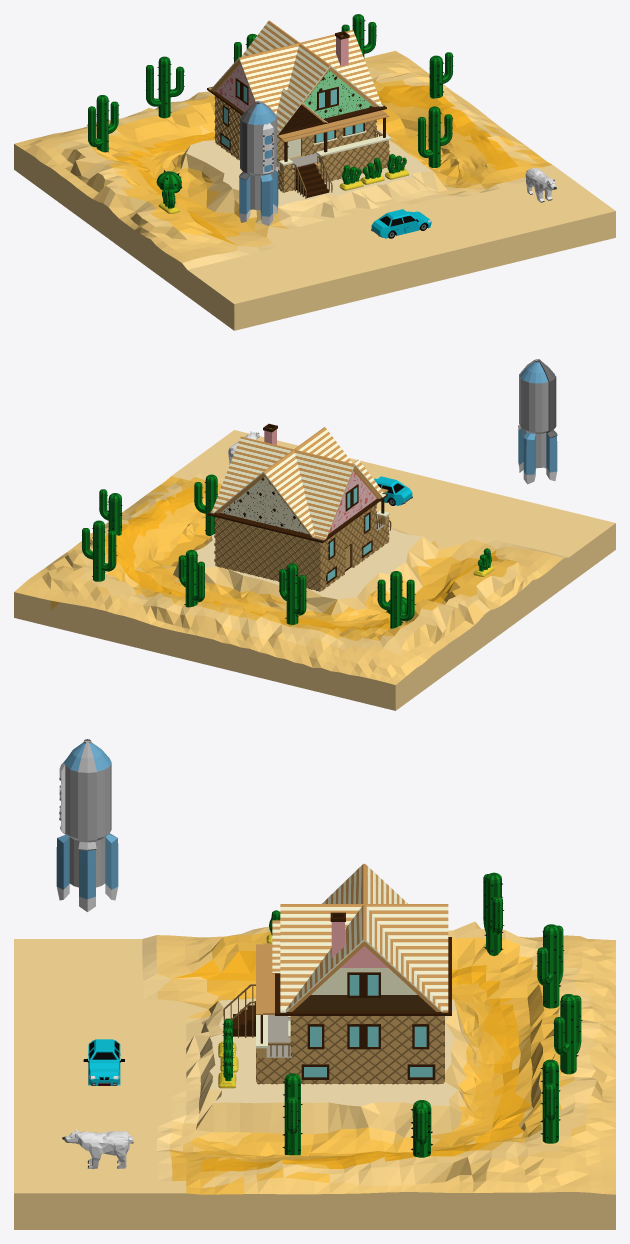
3 views of the same model, one above another, from view 1: azimuth 30°, elevation 25°; view 2: azimuth 150°, elevation 25°; view 3: azimuth 270°, elevation 25° (orthographic). The views are drawn at different scales.
Visible parts, largest first — view 1: Cube.001, Cube.1102, OBJRANDOM_ROCKETSHIP, Cylinder.044, Cylinder.037, Cylinder.045, VEHICLES_CAR, Cylinder.038, Cylinder.042, ANIMAL_OSO_POLAR, Cylinder.041, Cylinder.039 (+1 smaller); view 2: Cube.001, Cube.1102, OBJRANDOM_ROCKETSHIP, Cylinder.045, Cylinder.042, Cylinder.044, Cylinder.043, Cylinder.037, Cylinder.038, VEHICLES_CAR; view 3: Cube.001, Cube.1102, OBJRANDOM_ROCKETSHIP, Cylinder.044, Cylinder.043, ANIMAL_OSO_POLAR, VEHICLES_CAR, Cylinder.045, Cylinder.042, Cylinder.037, Cylinder.038.
Part boxes in pixels (bbox=[...]): Cube.001: bbox=[14, 50, 615, 330]; Cube.1102: bbox=[207, 20, 391, 198]; OBJRANDOM_ROCKETSHIP: bbox=[239, 100, 278, 225]; Cylinder.044: bbox=[146, 56, 184, 118]; Cylinder.037: bbox=[417, 106, 452, 167]; Cylinder.045: bbox=[87, 95, 119, 152]; VEHICLES_CAR: bbox=[371, 209, 431, 238]; Cylinder.038: bbox=[429, 52, 453, 98]; Cylinder.042: bbox=[341, 14, 376, 58]; ANIMAL_OSO_POLAR: bbox=[525, 167, 556, 202]; Cylinder.041: bbox=[385, 154, 409, 179]; Cylinder.039: bbox=[339, 165, 363, 190]; Cube.001: bbox=[14, 430, 615, 710]; Cube.1102: bbox=[207, 423, 391, 591]; OBJRANDOM_ROCKETSHIP: bbox=[518, 359, 557, 484]; Cylinder.045: bbox=[377, 571, 415, 628]; Cylinder.042: bbox=[82, 520, 117, 581]; Cylinder.044: bbox=[279, 563, 306, 624]; Cylinder.043: bbox=[178, 549, 205, 607]; Cylinder.037: bbox=[194, 474, 221, 535]; Cylinder.038: bbox=[99, 489, 122, 535]; VEHICLES_CAR: bbox=[374, 476, 412, 505]; Cube.001: bbox=[14, 921, 615, 1229]; Cube.1102: bbox=[223, 863, 451, 1084]; OBJRANDOM_ROCKETSHIP: bbox=[56, 739, 118, 911]; Cylinder.044: bbox=[536, 924, 564, 1008]; Cylinder.043: bbox=[553, 994, 582, 1074]; ANIMAL_OSO_POLAR: bbox=[62, 1129, 133, 1168]; VEHICLES_CAR: bbox=[83, 1039, 124, 1085]; Cylinder.045: bbox=[483, 872, 504, 955]; Cylinder.042: bbox=[540, 1059, 560, 1143]; Cylinder.037: bbox=[282, 1073, 302, 1155]; Cylinder.038: bbox=[410, 1100, 432, 1157].
Bounding box in the file's own units: 4002 × 2054 × 4001.
Materials: 32 (3 with a texture image).
